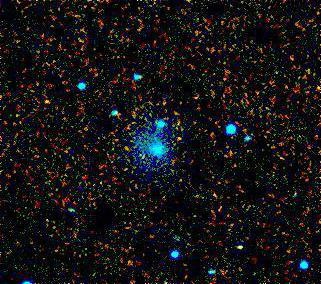star: (162, 125, 192, 155)
